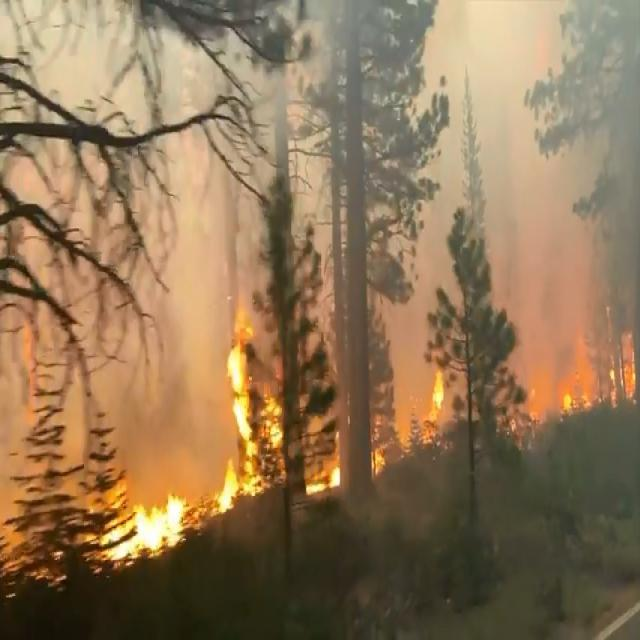Fire: (88, 308, 640, 578)
